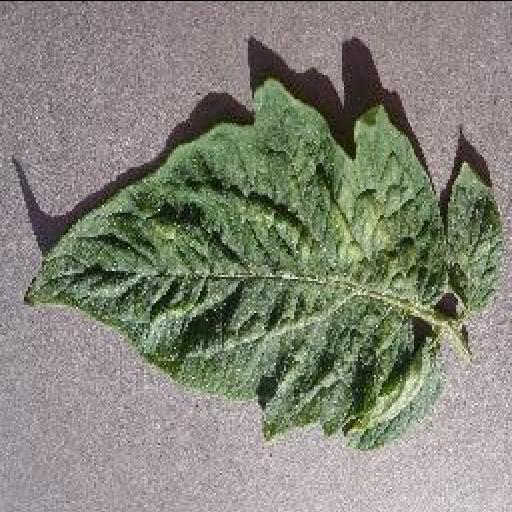disease_tomato: (17, 80, 503, 444)
